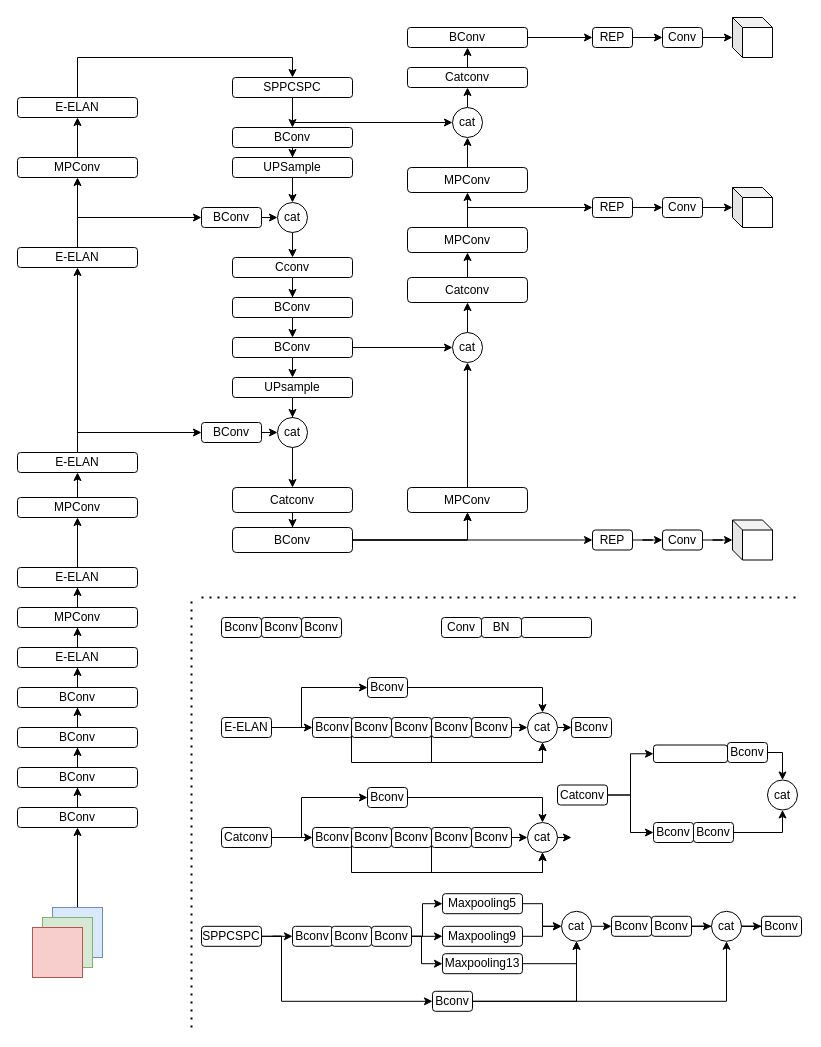
Some shapes in this 821 by 1047 pixel diagram are drawn without their labels. The centre of each missing label's shape, as x and y in pixels:
"LeakyReLu" belongs at point (556, 627).
"Maxpooling" belongs at point (690, 753).
